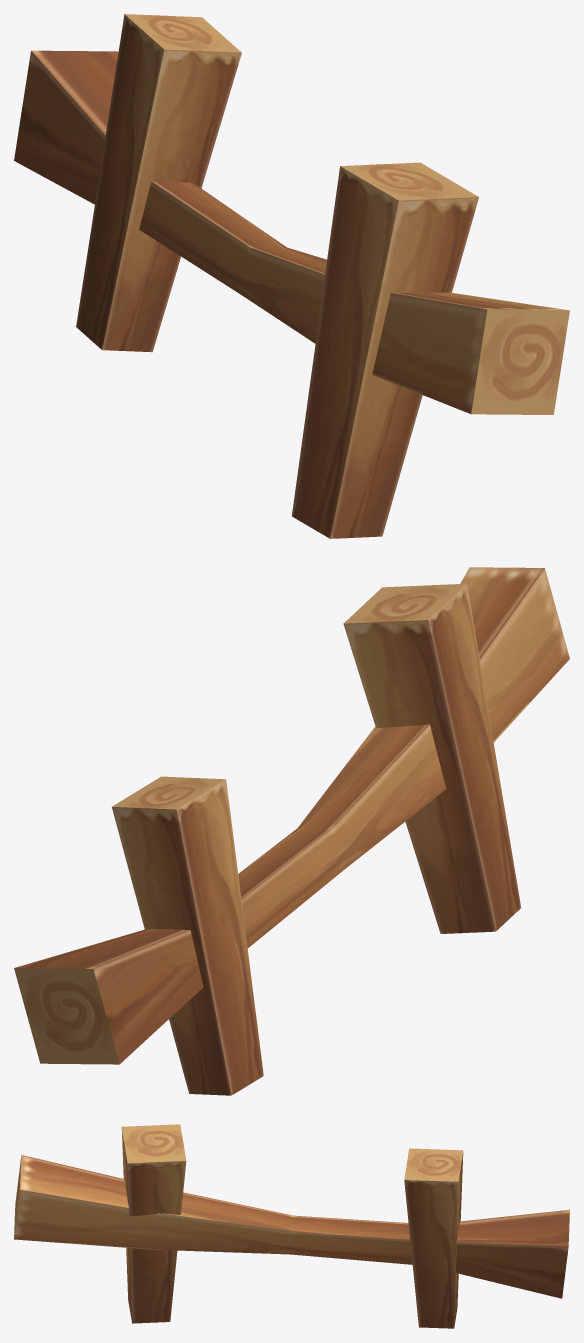
The picture shows the model from 3 angles, top to bottom: view 1: azimuth 30°, elevation 25°; view 2: azimuth 150°, elevation 25°; view 3: azimuth 270°, elevation 25°; orthographic projection. The views are drawn at different scales.
Parts seen in each view (by area): view 1: Box006; view 2: Box006; view 3: Box006.
Part boxes in pixels (left/top/right/bottom): Box006: left=14, top=14, right=569, bottom=538; Box006: left=14, top=567, right=569, bottom=1095; Box006: left=14, top=1124, right=569, bottom=1328.
Size of the model in its own units: 92.47 by 447 by 177.
